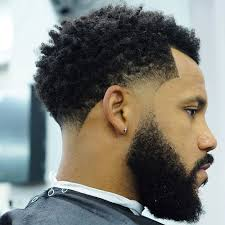black_male: (87, 9, 219, 214)
